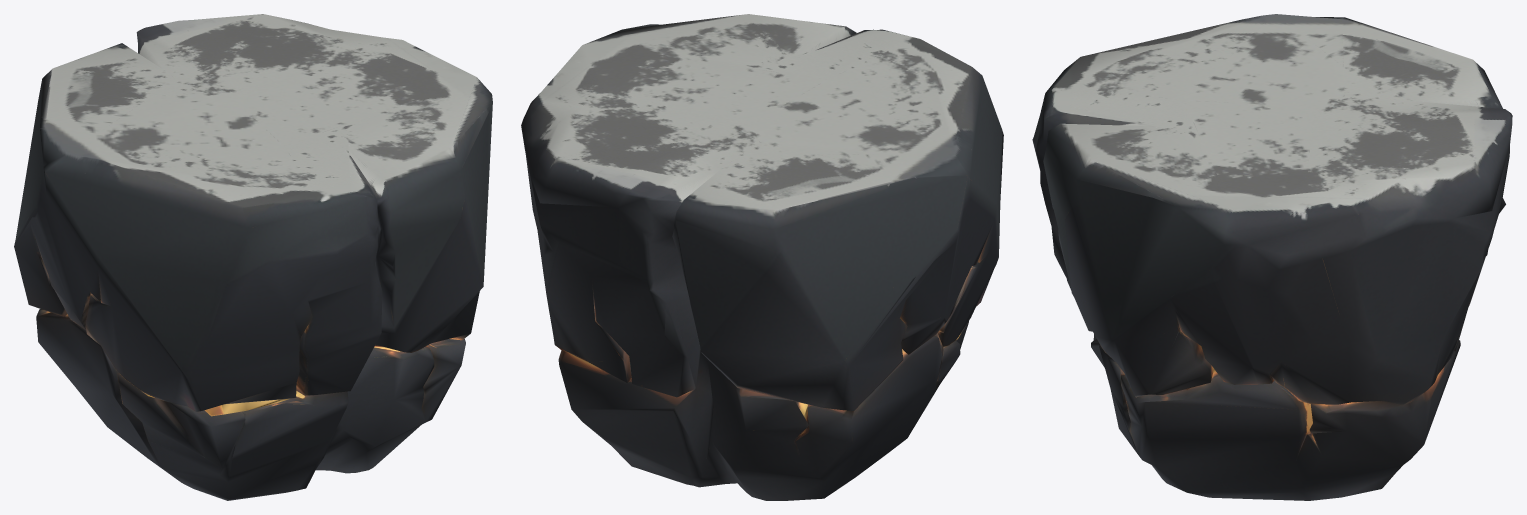
File: stair_stone.glb
3 views of the same model, side by side, from view 1: azimuth 30°, elevation 25°; view 2: azimuth 150°, elevation 25°; view 3: azimuth 270°, elevation 25° (orthographic). The views are drawn at different scales.
Size of the model in its own units: 0.9575 by 0.7397 by 0.9307.
1 material, 1 textured.
